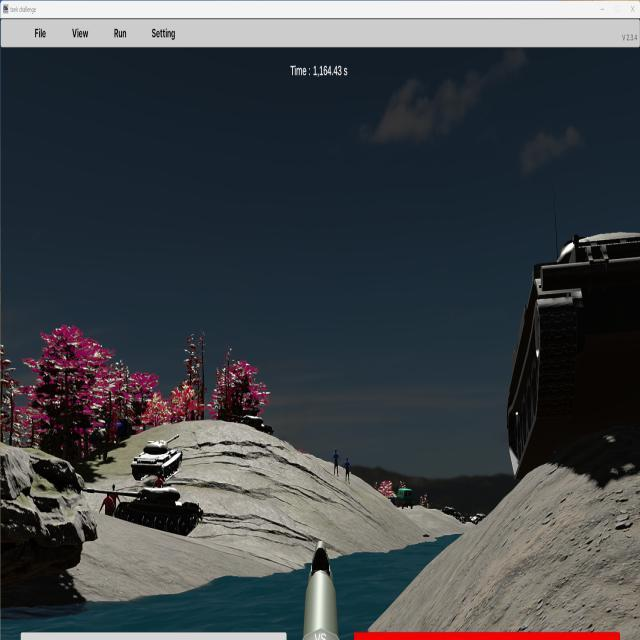Tank: (81, 485, 203, 538), (131, 433, 183, 482)
